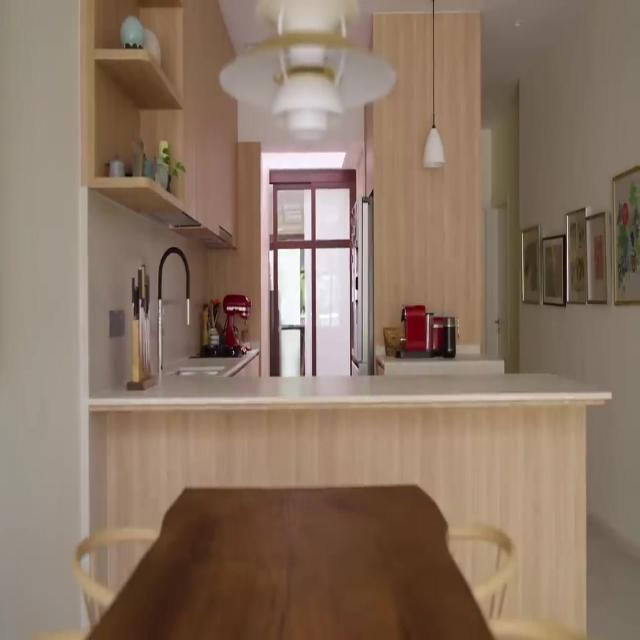door: (278, 181, 352, 378)
obstacle: (84, 482, 496, 638), (80, 0, 238, 250), (350, 189, 374, 375)
